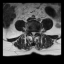CCS_normal: (32, 30, 34, 36)
LFS_severe_stenosis: (35, 30, 37, 35)
LLS_normal: (34, 30, 35, 35)
RFS_severe_stenosis: (29, 29, 30, 34)
RLS_stenosis: (30, 30, 32, 35)
